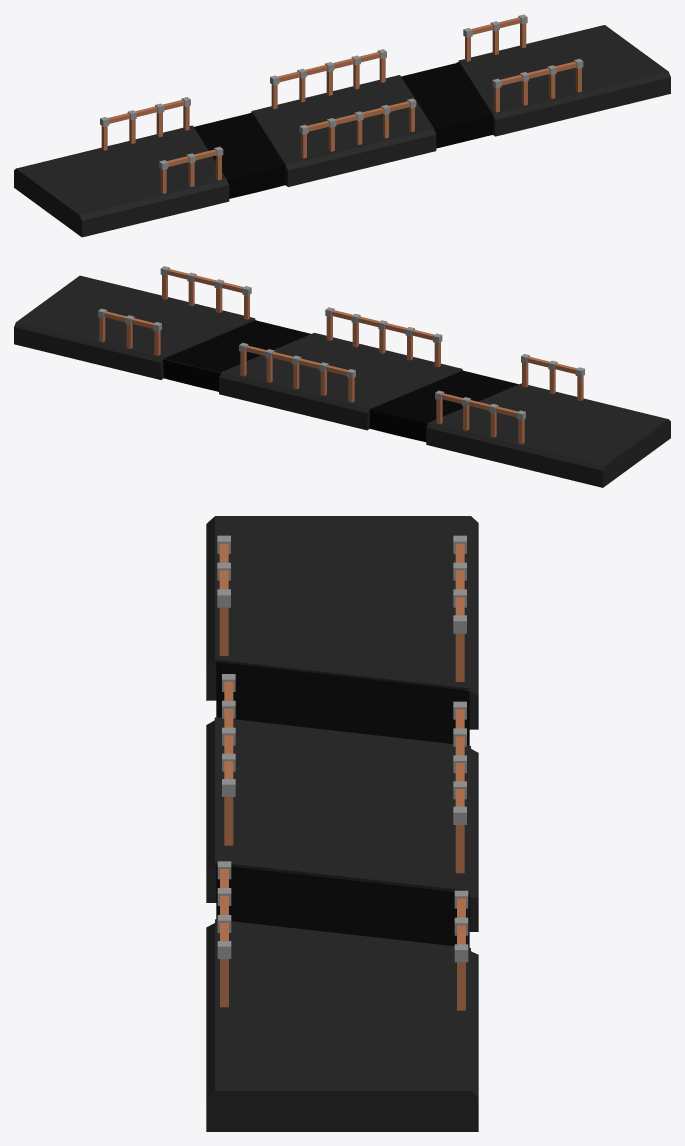
The model's file is Bridge.fbx.
The picture shows the model from 3 angles, top to bottom: view 1: azimuth 30°, elevation 25°; view 2: azimuth 150°, elevation 25°; view 3: azimuth 270°, elevation 25°; orthographic projection. The views are drawn at different scales.
Parts seen in each view (by area): view 1: Cube; view 2: Cube; view 3: Cube.
Part boxes in pixels (x1,y1,x2,y2): Cube: (14,14,670,237); Cube: (14,266,670,487); Cube: (206,516,478,1131).
Bounding box in the file's own units: 1500 × 300 × 125.
